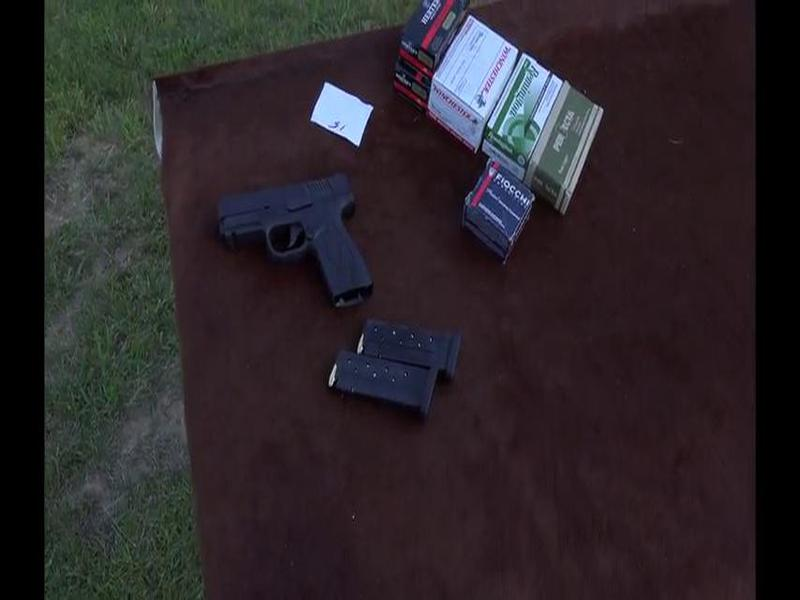Pistola: (201, 161, 386, 317)
